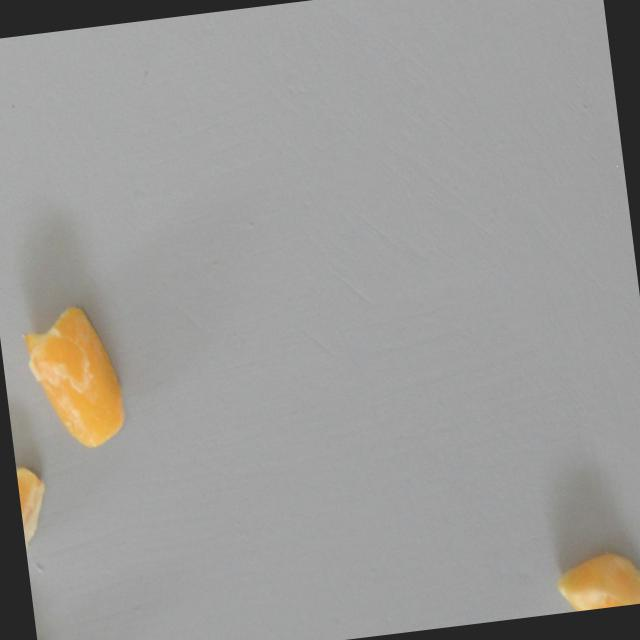pelicula: (16, 296, 129, 453), (552, 547, 640, 613), (15, 459, 55, 571)
